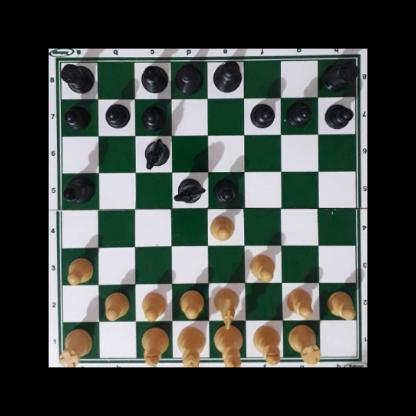black-bishop: (61, 175, 95, 203), (139, 62, 170, 91)
black-king: (213, 60, 242, 94)
black-knight: (174, 177, 203, 203), (143, 137, 168, 167)
black-pawn: (324, 101, 352, 129), (213, 176, 239, 203), (250, 101, 275, 127), (64, 104, 90, 128), (287, 101, 311, 127), (141, 103, 165, 129), (105, 102, 128, 128)
black-queen: (174, 61, 205, 95)
black-rook: (323, 56, 357, 91), (58, 61, 95, 93)
white-bishop: (252, 325, 280, 364), (141, 324, 167, 365)
white-king: (213, 322, 242, 366)
white-knight: (213, 286, 239, 329)
white-pawn: (285, 286, 315, 317), (327, 289, 355, 318), (65, 256, 93, 284), (102, 290, 129, 319), (249, 252, 275, 282), (140, 290, 165, 321), (178, 288, 203, 318), (209, 213, 234, 240)
white-queen: (176, 325, 206, 367)
white-rook: (60, 324, 91, 367), (288, 327, 319, 362)
